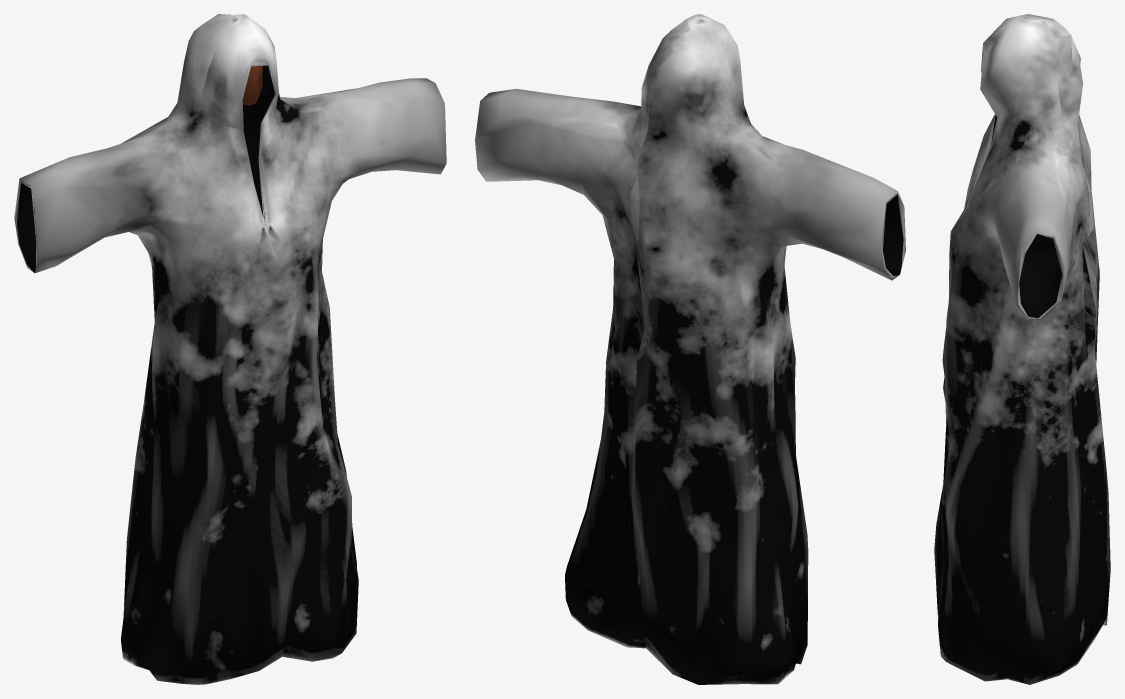
Rendered from Gaiard.fbx.
3 renders of one model, left to right at view 1: azimuth 30°, elevation 25°; view 2: azimuth 150°, elevation 25°; view 3: azimuth 270°, elevation 25°, orthographic.
Visible parts, largest first — view 1: Vetements; view 2: Vetements; view 3: Vetements.
Boxes of the visible parts, left/top/right/bottom form: Vetements: left=14, top=14, right=446, bottom=684; Vetements: left=475, top=14, right=905, bottom=684; Vetements: left=934, top=14, right=1110, bottom=684.
Size of the model in its own units: 47.46 by 70.29 by 17.93.
